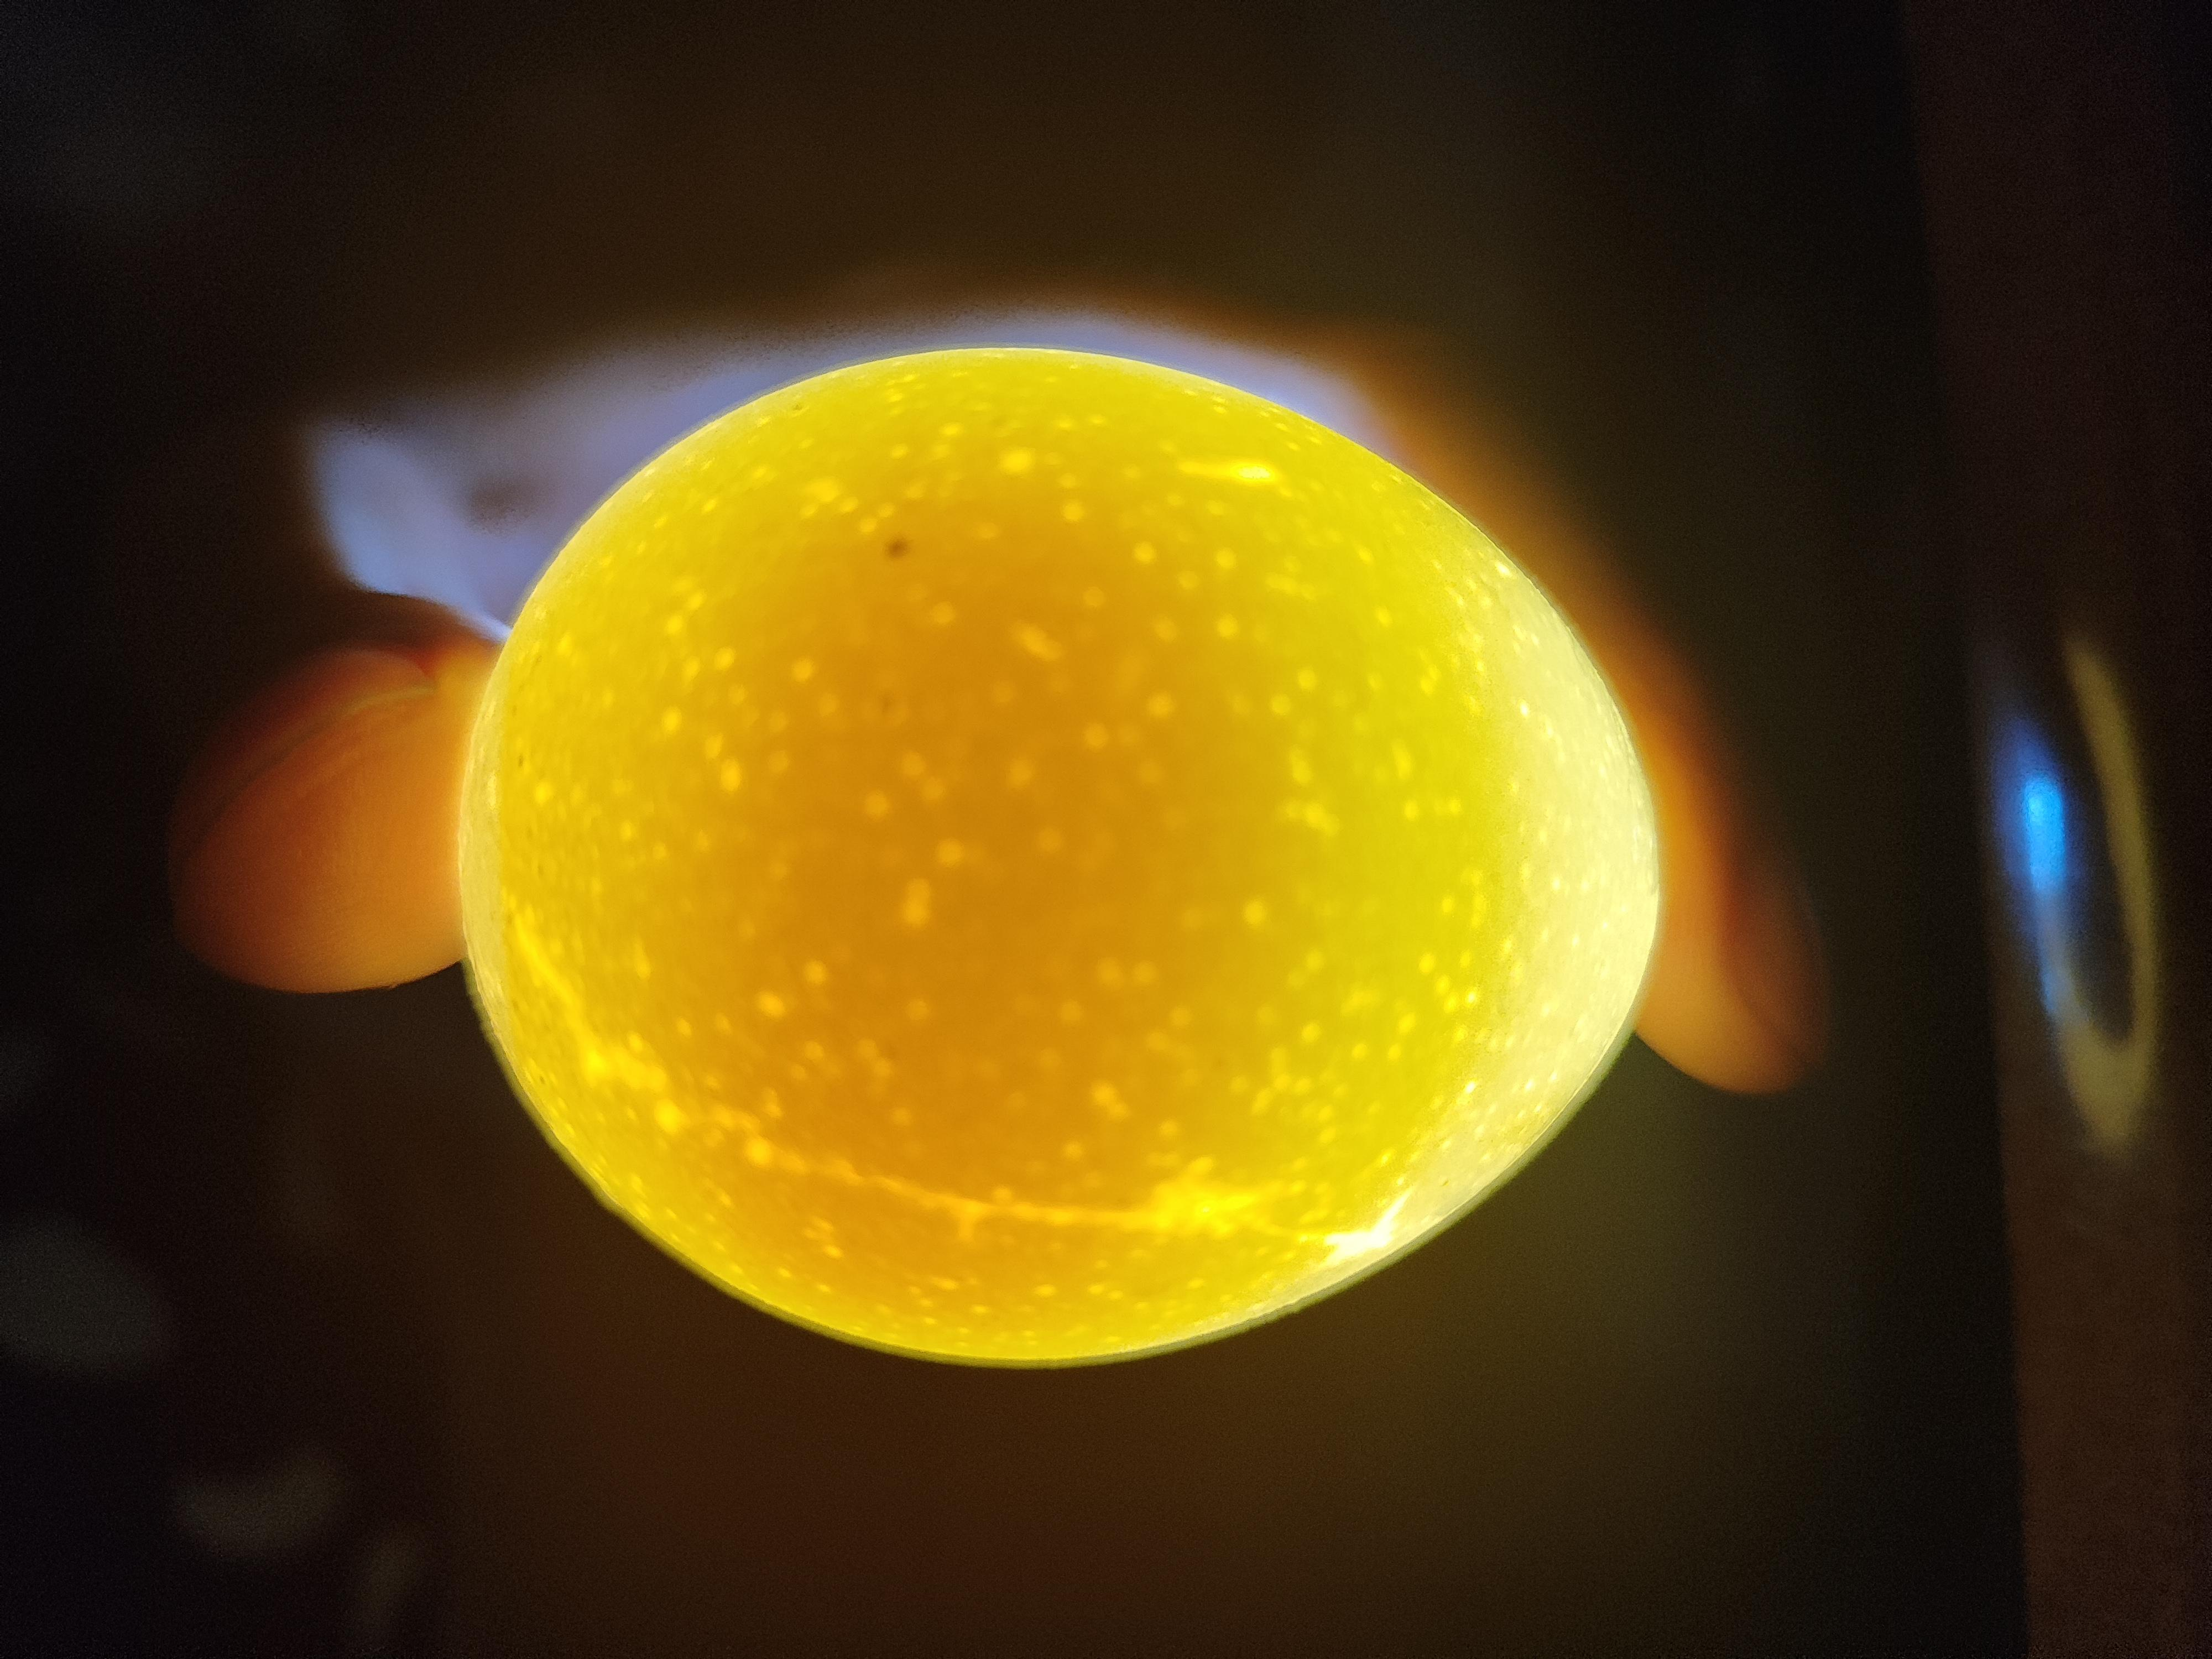B - Fair: (470, 335, 1672, 1380)
